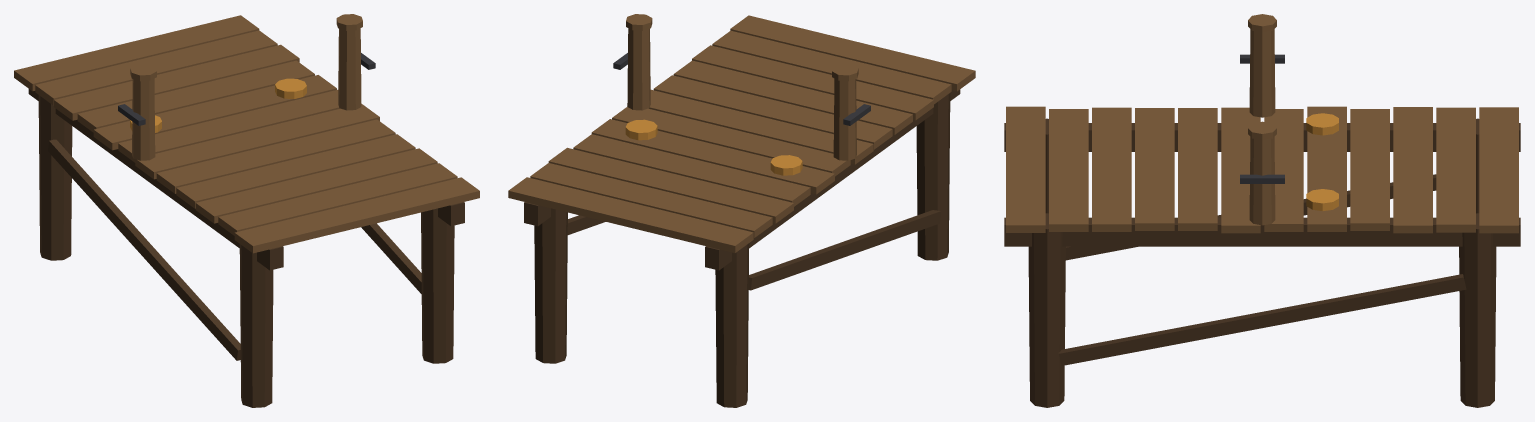
The model's file is Prop_YTM_Jetty.glb.
3 renders of one model, left to right at view 1: azimuth 30°, elevation 25°; view 2: azimuth 150°, elevation 25°; view 3: azimuth 270°, elevation 25°, orthographic. The views are drawn at different scales.
Visible parts, largest first — view 1: Prop_YTM_Jetty, Prop_YTM_Jetty_Rope; view 2: Prop_YTM_Jetty, Prop_YTM_Jetty_Rope; view 3: Prop_YTM_Jetty, Prop_YTM_Jetty_Rope.
Part boxes in pixels (box(x1,y1,x2,y2)): Prop_YTM_Jetty: box(14, 14, 479, 407); Prop_YTM_Jetty_Rope: box(130, 78, 306, 132); Prop_YTM_Jetty: box(508, 14, 975, 407); Prop_YTM_Jetty_Rope: box(625, 119, 802, 175); Prop_YTM_Jetty: box(1004, 14, 1520, 407); Prop_YTM_Jetty_Rope: box(1306, 113, 1338, 211).
Size of what is drawn, in the model's own units: 1.7 by 1.79 by 3.
